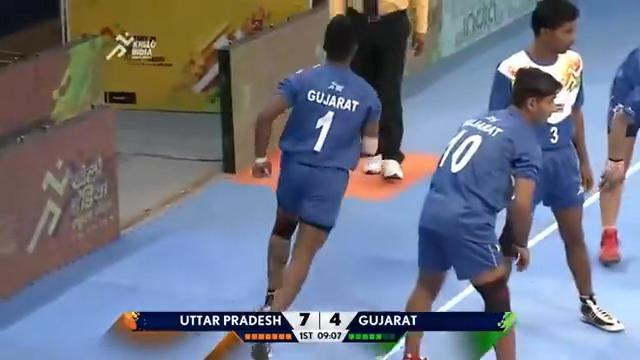Player: (205, 13, 383, 358), (400, 65, 564, 358), (487, 0, 625, 333), (597, 45, 639, 266), (48, 24, 120, 124)
referee: (327, 0, 428, 179)
